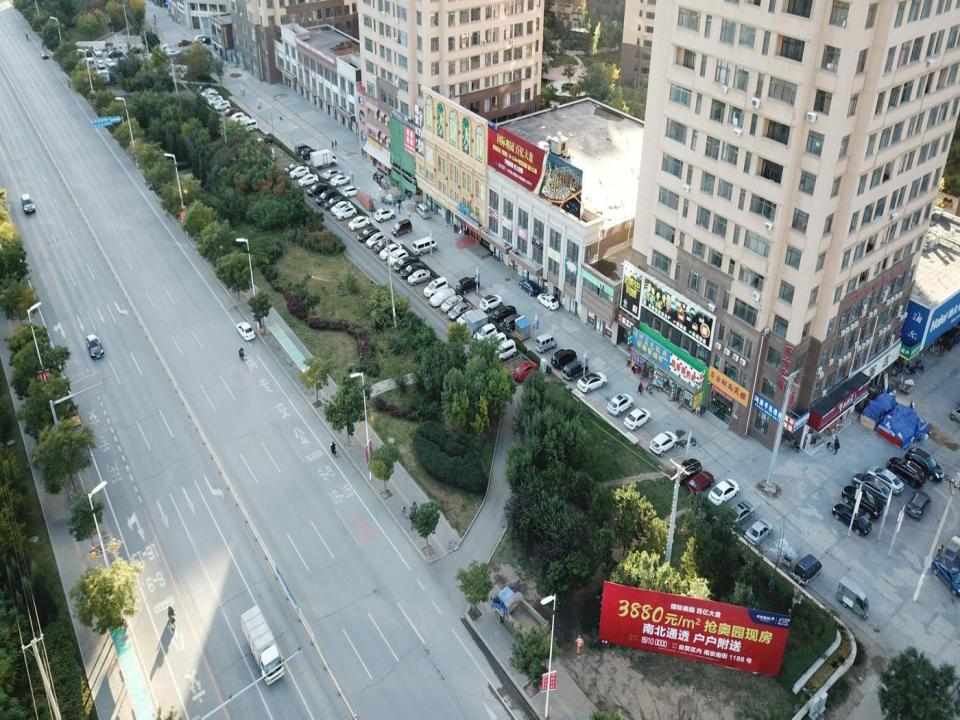car: (842, 485, 882, 523), (906, 444, 943, 483), (887, 454, 926, 490), (833, 503, 872, 538), (852, 470, 889, 505), (865, 464, 902, 499), (932, 556, 960, 595), (794, 553, 822, 585), (744, 517, 774, 545), (709, 479, 739, 505), (727, 501, 755, 528), (673, 459, 703, 484), (907, 490, 931, 520), (576, 371, 608, 393), (650, 431, 678, 455), (607, 393, 633, 417), (687, 470, 714, 493), (424, 276, 449, 299), (552, 348, 578, 370), (86, 333, 105, 362), (625, 408, 650, 430), (484, 332, 507, 354), (400, 263, 424, 284), (562, 360, 588, 379), (473, 324, 497, 344), (235, 322, 256, 344), (493, 341, 516, 361), (502, 312, 525, 332), (491, 306, 516, 324), (430, 289, 456, 306), (454, 277, 480, 294), (514, 361, 537, 380), (440, 295, 464, 313), (448, 301, 472, 319), (479, 295, 503, 313), (394, 257, 416, 276), (537, 292, 559, 310), (388, 249, 409, 267), (408, 269, 429, 287), (518, 278, 538, 296), (380, 244, 400, 261), (458, 310, 478, 327), (21, 194, 37, 214), (330, 202, 352, 216), (357, 228, 379, 242), (366, 233, 386, 248), (375, 207, 395, 222), (347, 217, 370, 230), (335, 205, 356, 219), (298, 174, 320, 187), (324, 197, 344, 211), (317, 191, 335, 206), (375, 239, 394, 253), (330, 174, 350, 187), (307, 184, 327, 197), (322, 169, 343, 181), (289, 166, 310, 178), (284, 162, 304, 174), (222, 107, 239, 120), (254, 135, 272, 147), (343, 186, 361, 198), (228, 112, 244, 125), (214, 99, 230, 112), (200, 86, 216, 99), (294, 142, 311, 154), (208, 95, 223, 107), (128, 44, 144, 55), (301, 149, 317, 160), (108, 48, 124, 58), (203, 92, 218, 102), (200, 36, 216, 44), (178, 38, 192, 46), (40, 49, 50, 60), (105, 58, 116, 68), (93, 46, 103, 56), (156, 41, 167, 50), (166, 49, 178, 56), (97, 60, 105, 70), (83, 49, 91, 56)
truck: (490, 586, 549, 650), (243, 607, 284, 688), (310, 149, 338, 168), (90, 69, 115, 86)
van: (413, 236, 437, 256), (535, 332, 557, 352), (391, 218, 411, 236), (416, 203, 430, 219), (239, 120, 257, 132), (235, 115, 250, 128), (85, 57, 95, 70), (195, 34, 206, 41)
